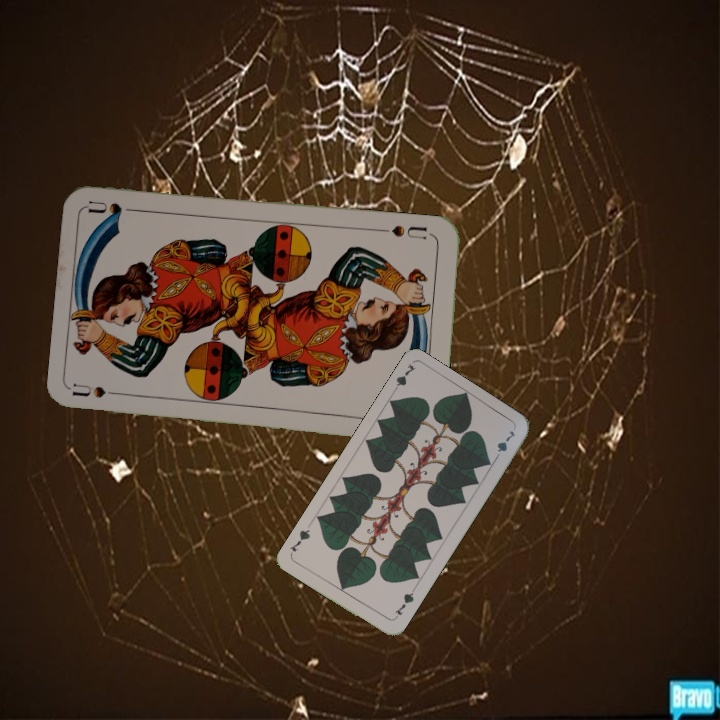G7: (387, 360, 418, 397), (391, 586, 417, 618)
SU: (376, 221, 430, 243), (71, 380, 130, 400)
